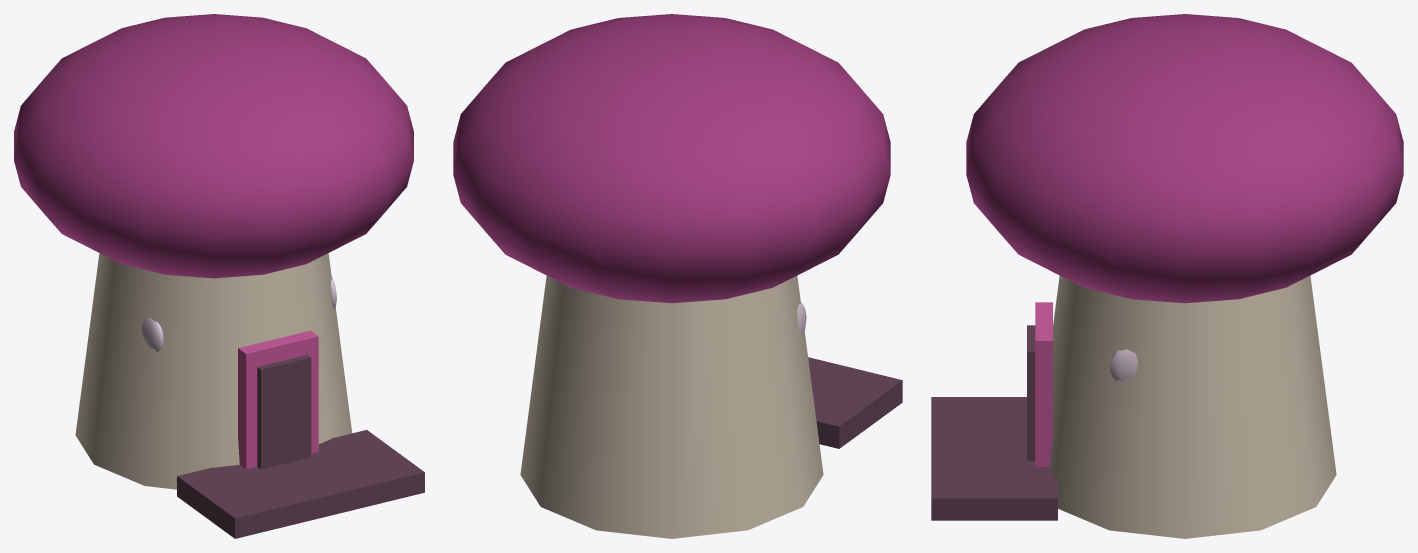
File: mushroom_house.glb
The picture shows the model from 3 angles, left to right: view 1: azimuth 30°, elevation 25°; view 2: azimuth 150°, elevation 25°; view 3: azimuth 270°, elevation 25°; orthographic projection. The views are drawn at different scales.
Visible parts, largest first — view 1: cap, stem_house, porch, door, door_frame, window_-1; view 2: cap, stem_house, porch; view 3: cap, stem_house, porch, door_frame, door, window_1.
Boxes of the visible parts, x1=… form: cap: x1=14, y1=14, x2=413, y2=278; stem_house: x1=75, y1=253, x2=352, y2=489; porch: x1=177, y1=430, x2=424, y2=538; door: x1=257, y1=355, x2=311, y2=469; door_frame: x1=238, y1=330, x2=318, y2=469; window_-1: x1=142, y1=318, x2=163, y2=351; cap: x1=453, y1=14, x2=890, y2=303; stem_house: x1=520, y1=276, x2=823, y2=538; porch: x1=808, y1=357, x2=902, y2=448; cap: x1=966, y1=14, x2=1403, y2=303; stem_house: x1=1049, y1=276, x2=1336, y2=538; porch: x1=931, y1=397, x2=1057, y2=520; door_frame: x1=1035, y1=302, x2=1052, y2=466; door: x1=1027, y1=325, x2=1035, y2=461; window_1: x1=1110, y1=349, x2=1137, y2=381.
Size of the model in its own units: 6.3 by 6.68 by 6.7.
